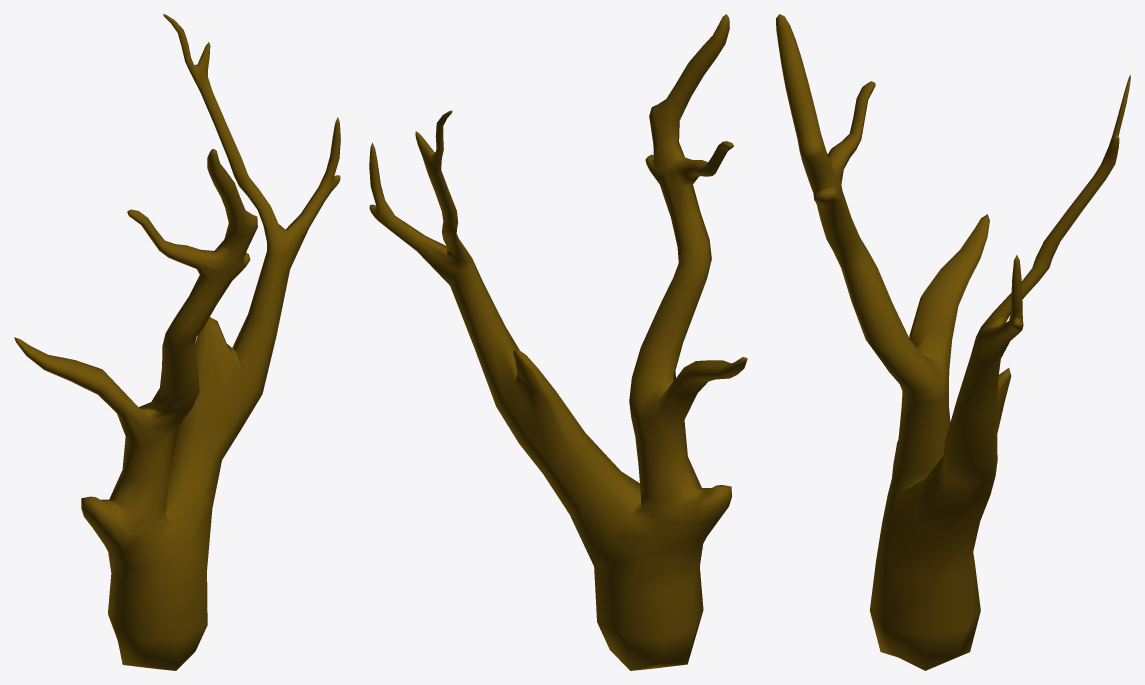
File: Dessert Tree 1.fbx
The picture shows the model from 3 angles, left to right: view 1: azimuth 30°, elevation 25°; view 2: azimuth 150°, elevation 25°; view 3: azimuth 270°, elevation 25°; orthographic projection. The views are drawn at different scales.
Parts seen in each view (by area): view 1: pCube1; view 2: pCube1; view 3: pCube1.
Part boxes in pixels (x1,y1,x2,y2): pCube1: (14, 14, 340, 670); pCube1: (369, 14, 747, 670); pCube1: (776, 14, 1130, 670).
Size of the model in its own units: 3.61 by 5.79 by 2.87.
